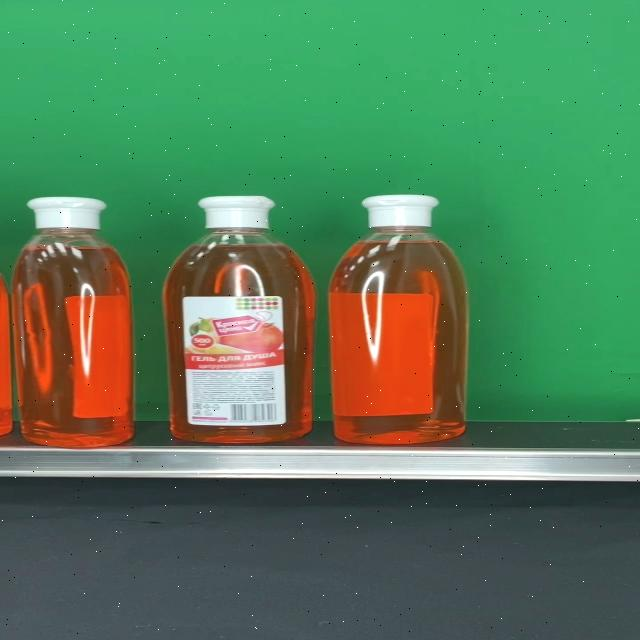Bottle: (161, 195, 316, 442), (328, 195, 468, 443), (12, 196, 134, 447)
Cap: (362, 194, 441, 228), (27, 196, 108, 229), (196, 196, 276, 228)
